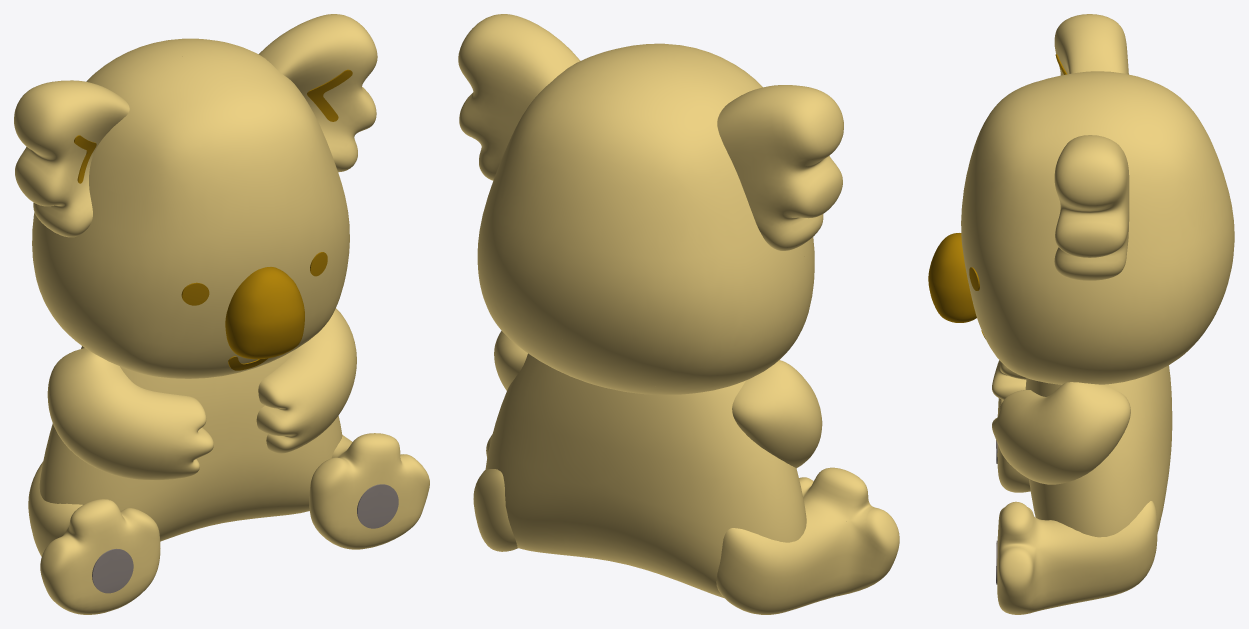
3 renders of one model, left to right at view 1: azimuth 30°, elevation 25°; view 2: azimuth 150°, elevation 25°; view 3: azimuth 270°, elevation 25°, orthographic. The views are drawn at different scales.
Visible parts, largest first — view 1: 024_lotteKoala; view 2: 024_lotteKoala; view 3: 024_lotteKoala.
Boxes of the visible parts, box(x1,y1,x2,y2) form: 024_lotteKoala: box(14, 14, 429, 614); 024_lotteKoala: box(458, 14, 899, 614); 024_lotteKoala: box(928, 14, 1234, 614).
Size of the model in its own units: 0.1097 by 0.1363 by 0.0812.
